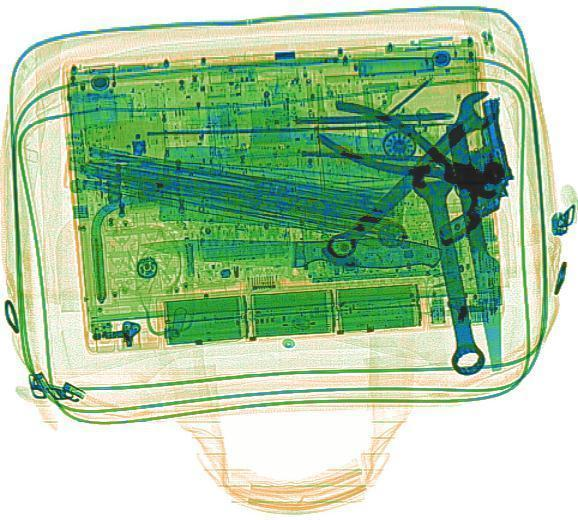Gun: (411, 95, 525, 246)
Knife: (446, 120, 517, 370), (139, 232, 441, 270)
Pliers: (307, 92, 501, 209)
Wrench: (315, 82, 511, 266), (406, 157, 495, 376)
